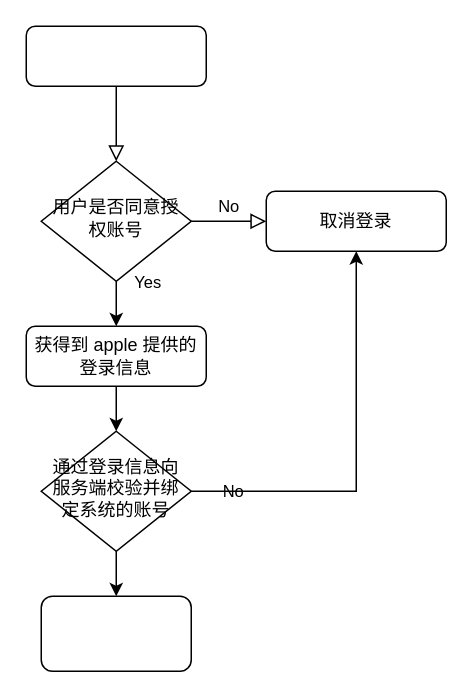
The diagram is 473 pixels wide and 698 high, and some of its shapes have lost their labels. Here are the shapes that lost their labels. From the top down, the centre of each, then its label:
At [115,55]: "客户端点击登录按钮发起".
At [115,633]: "完成登录".
